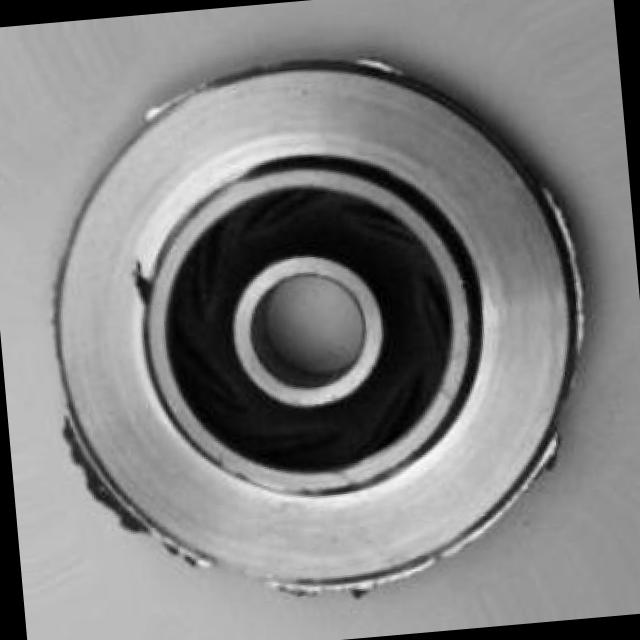Defect: (58, 426, 140, 532)
